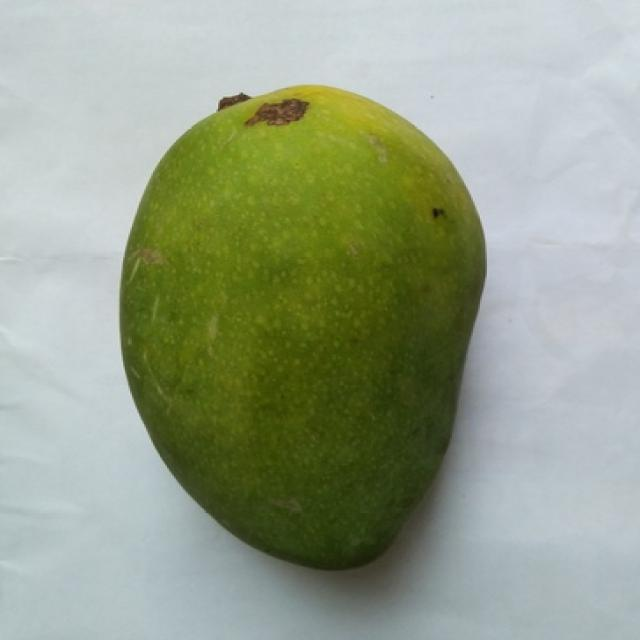Mango: (120, 85, 485, 568)
